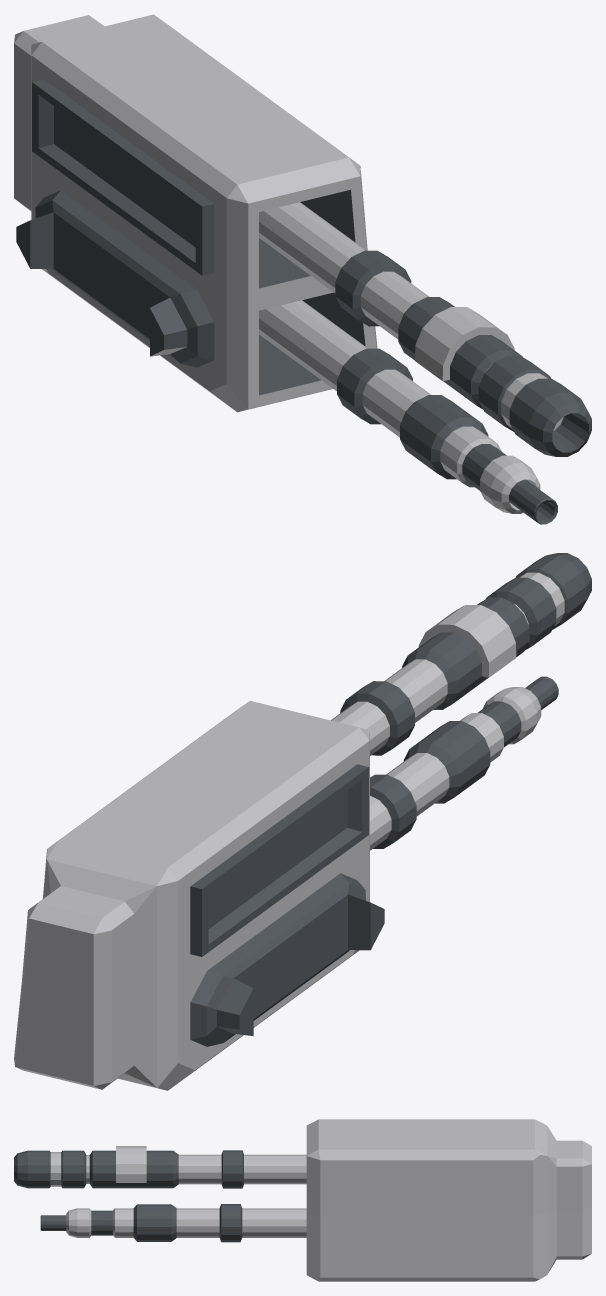
File: Fighter_05_Artillery_Right.fbx
3 views of the same model, one above another, from view 1: azimuth 30°, elevation 25°; view 2: azimuth 150°, elevation 25°; view 3: azimuth 270°, elevation 25° (orthographic). The views are drawn at different scales.
Visible parts, largest first — view 1: Fighter_05_Artillery_Right; view 2: Fighter_05_Artillery_Right; view 3: Fighter_05_Artillery_Right.
Boxes of the visible parts, x1=… form: Fighter_05_Artillery_Right: x1=14, y1=14, x2=591, y2=524; Fighter_05_Artillery_Right: x1=14, y1=553, x2=591, y2=1090; Fighter_05_Artillery_Right: x1=14, y1=1119, x2=591, y2=1281.
Bounding box in the file's own units: 155 × 175 × 726.
2 materials, 2 textured.
